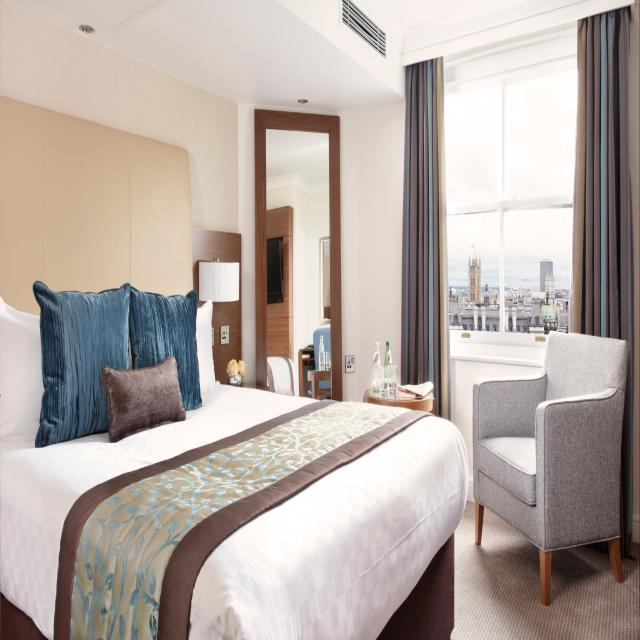bed: (0, 262, 464, 639)
sofa: (472, 330, 630, 606)
